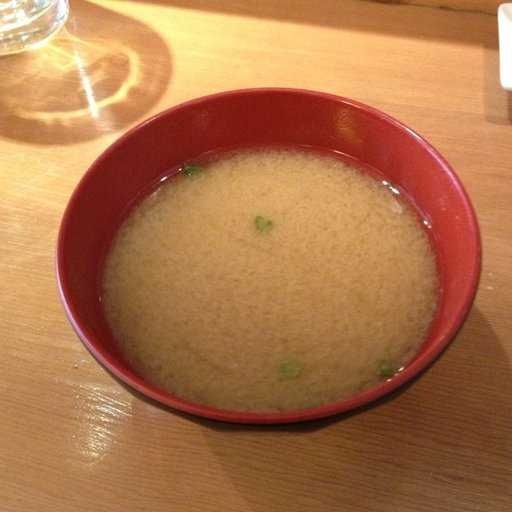soup: (96, 132, 431, 397)
